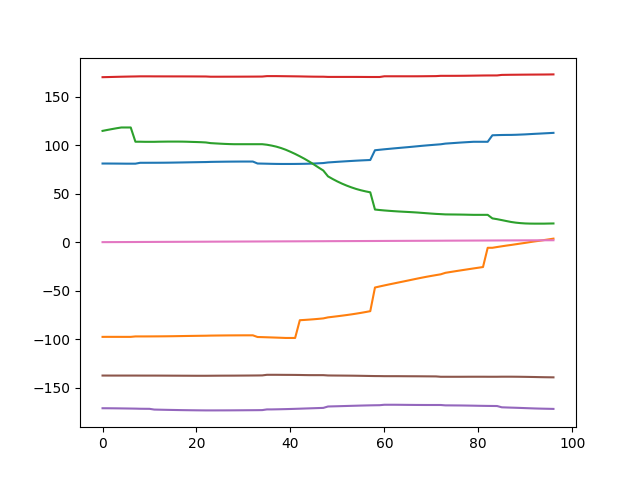Good_Bicep_Curl_Down: (4, 1, 640, 480)
